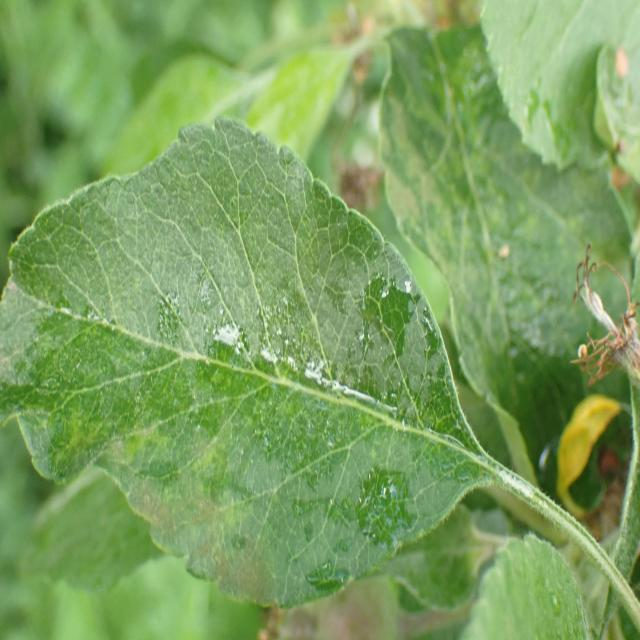scab: (53, 351, 407, 640)
